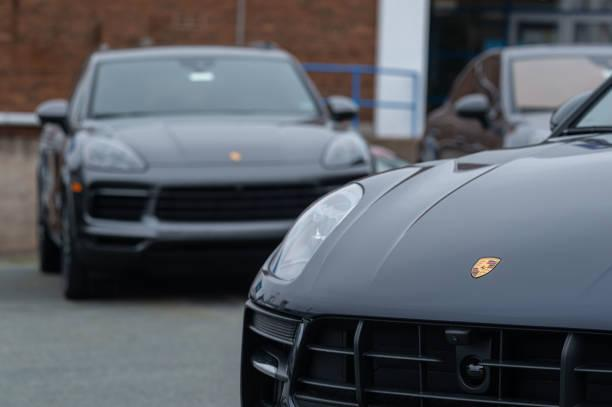porsche: (462, 251, 506, 284), (226, 145, 253, 166)
